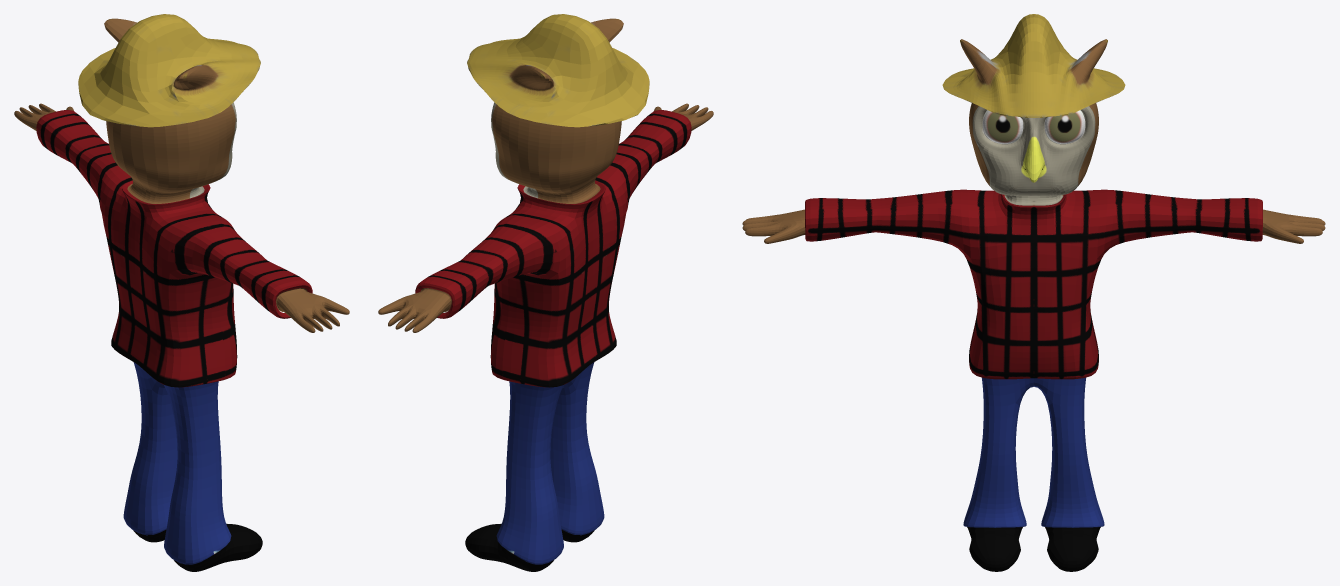
The model's file is NPC1.fbx.
3 views of the same model, side by side, from view 1: azimuth 30°, elevation 25°; view 2: azimuth 150°, elevation 25°; view 3: azimuth 270°, elevation 25° (orthographic). The views are drawn at different scales.
Parts seen in each view (by area): view 1: NPC1; view 2: NPC1; view 3: NPC1.
Boxes of the visible parts, box(x1,y1,x2,y2) form: NPC1: box(14, 14, 349, 571); NPC1: box(378, 14, 713, 571); NPC1: box(742, 14, 1325, 571).
Size of the model in its own units: 70.1 by 220 by 223.
1 material, 1 textured.
